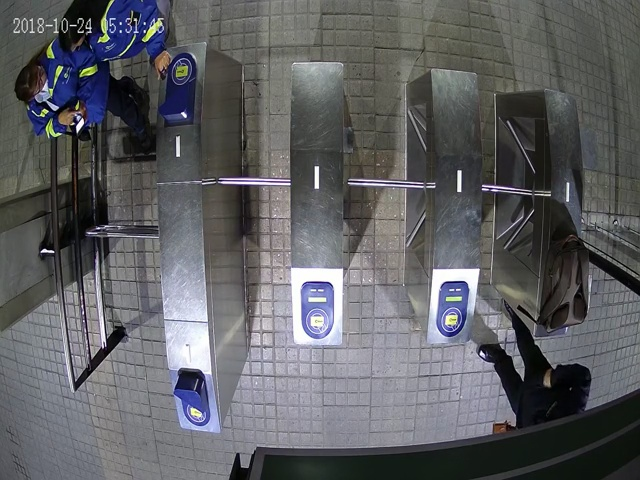Chaleco_azul: (14, 39, 149, 140), (56, 1, 173, 77)
